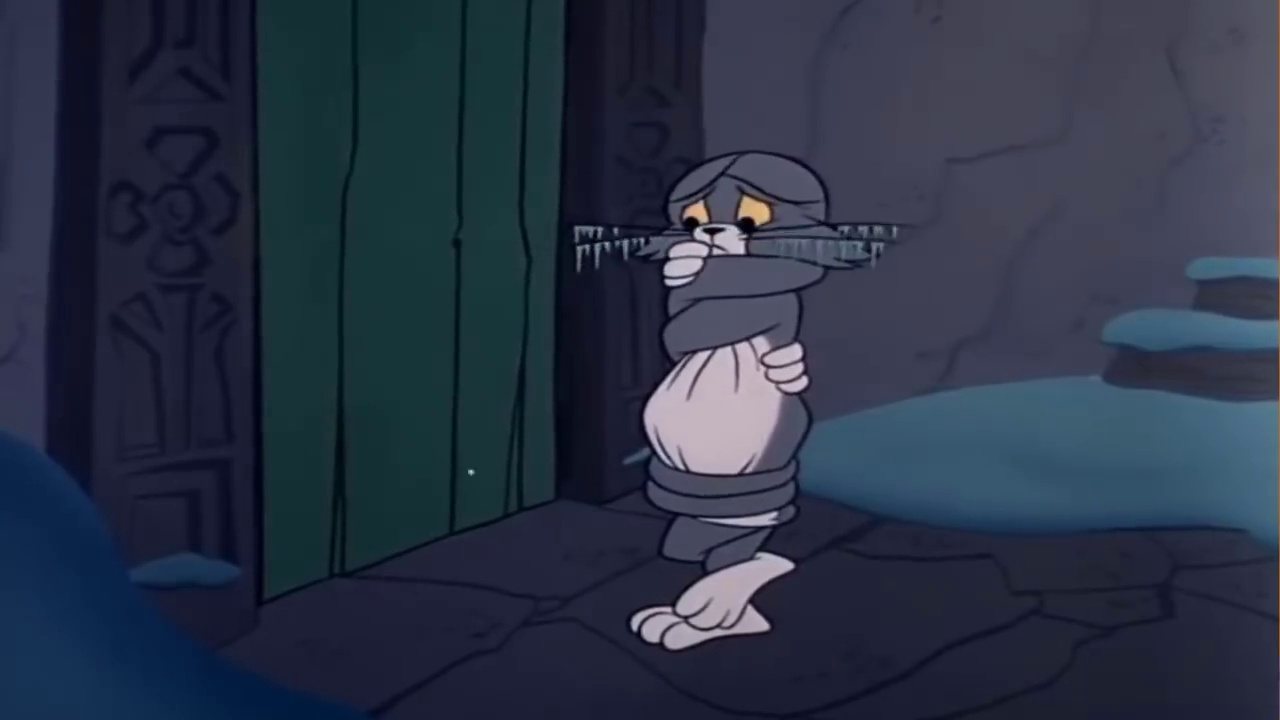face: (669, 184, 799, 254)
